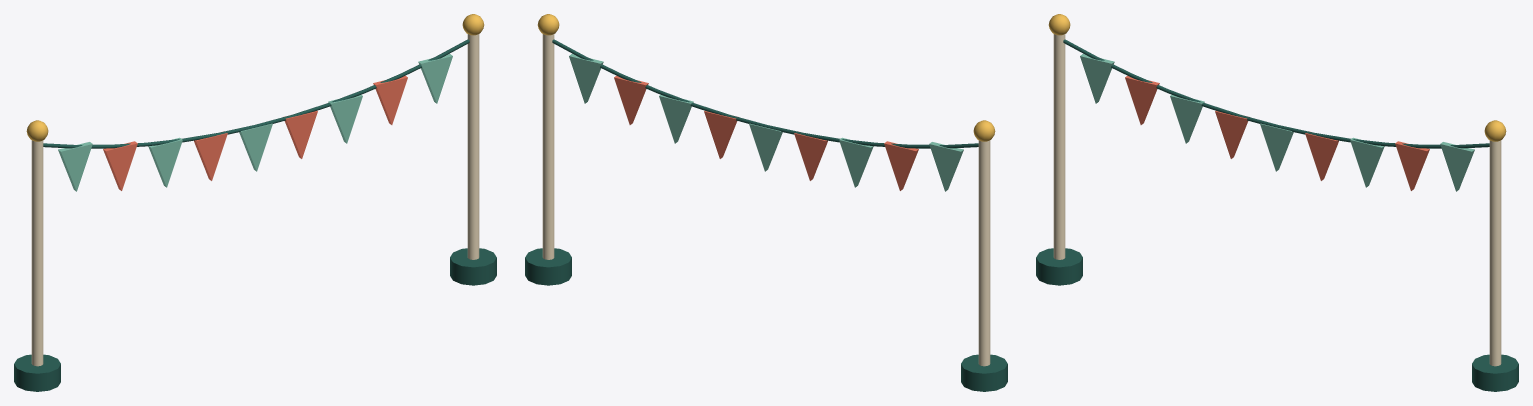
The model's file is athlete_bunting.glb.
3 renders of one model, left to right at view 1: azimuth 30°, elevation 25°; view 2: azimuth 150°, elevation 25°; view 3: azimuth 330°, elevation 25°, orthographic.
Parts seen in each view (by area): view 1: athlete_bunting__cream, athlete_bunting__ink, athlete_bunting__mint, athlete_bunting__coral, athlete_bunting__gold; view 2: athlete_bunting__cream, athlete_bunting__ink, athlete_bunting__mint, athlete_bunting__coral, athlete_bunting__gold; view 3: athlete_bunting__cream, athlete_bunting__ink, athlete_bunting__mint, athlete_bunting__coral, athlete_bunting__gold.
Part boxes in pixels (bbox=[...]): athlete_bunting__cream: bbox=[31, 34, 479, 366]; athlete_bunting__ink: bbox=[14, 39, 496, 391]; athlete_bunting__mint: bbox=[58, 54, 452, 191]; athlete_bunting__coral: bbox=[103, 75, 407, 190]; athlete_bunting__gold: bbox=[26, 14, 484, 141]; athlete_bunting__cream: bbox=[542, 34, 990, 366]; athlete_bunting__ink: bbox=[525, 39, 1007, 391]; athlete_bunting__mint: bbox=[569, 54, 963, 191]; athlete_bunting__coral: bbox=[614, 75, 918, 190]; athlete_bunting__gold: bbox=[537, 14, 995, 141]; athlete_bunting__cream: bbox=[1053, 34, 1501, 366]; athlete_bunting__ink: bbox=[1036, 39, 1518, 391]; athlete_bunting__mint: bbox=[1080, 54, 1474, 191]; athlete_bunting__coral: bbox=[1125, 75, 1429, 190]; athlete_bunting__gold: bbox=[1048, 14, 1506, 141].
Bounding box in the file's own units: 3.28 × 1.71 × 0.28.
